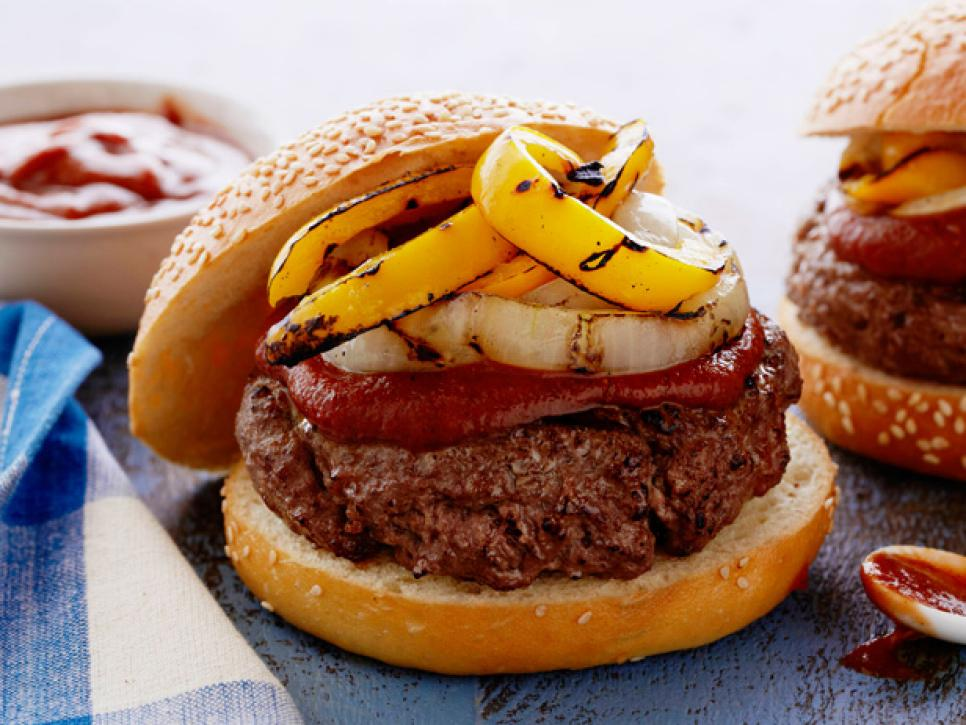hamburger: (142, 103, 842, 645), (824, 1, 966, 478)
